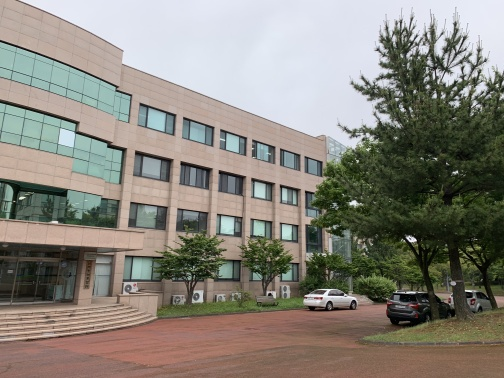Joint Experimental Labs: (1, 7, 343, 329)
